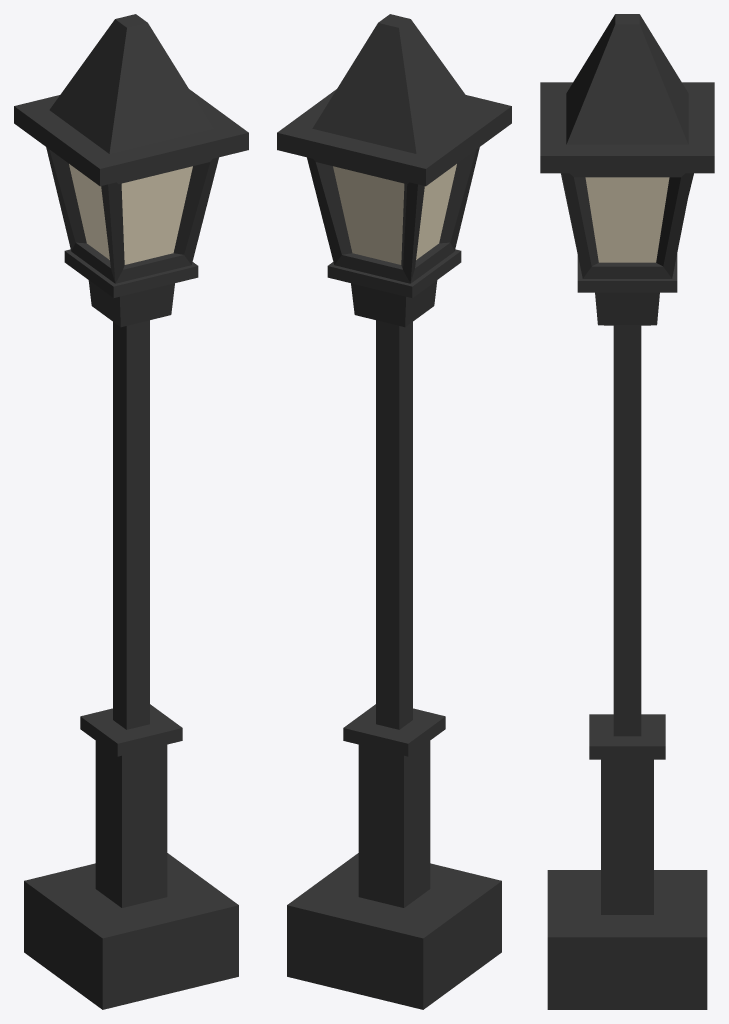
The model's file is victorian_lamppost.fbx.
3 views of the same model, side by side, from view 1: azimuth 30°, elevation 25°; view 2: azimuth 150°, elevation 25°; view 3: azimuth 270°, elevation 25° (orthographic).
Visible parts, largest first — view 1: Cube.232, Cube.231; view 2: Cube.232, Cube.231; view 3: Cube.232, Cube.231.
Boxes of the visible parts, x1,y1,x2,y2 form: Cube.232: (14,14,248,1009); Cube.231: (69,164,192,264); Cube.232: (277,14,511,1009); Cube.231: (333,164,456,264); Cube.232: (540,14,714,1009); Cube.231: (585,177,669,262).
Bounding box in the file's own units: 43.58 × 264 × 43.58.
